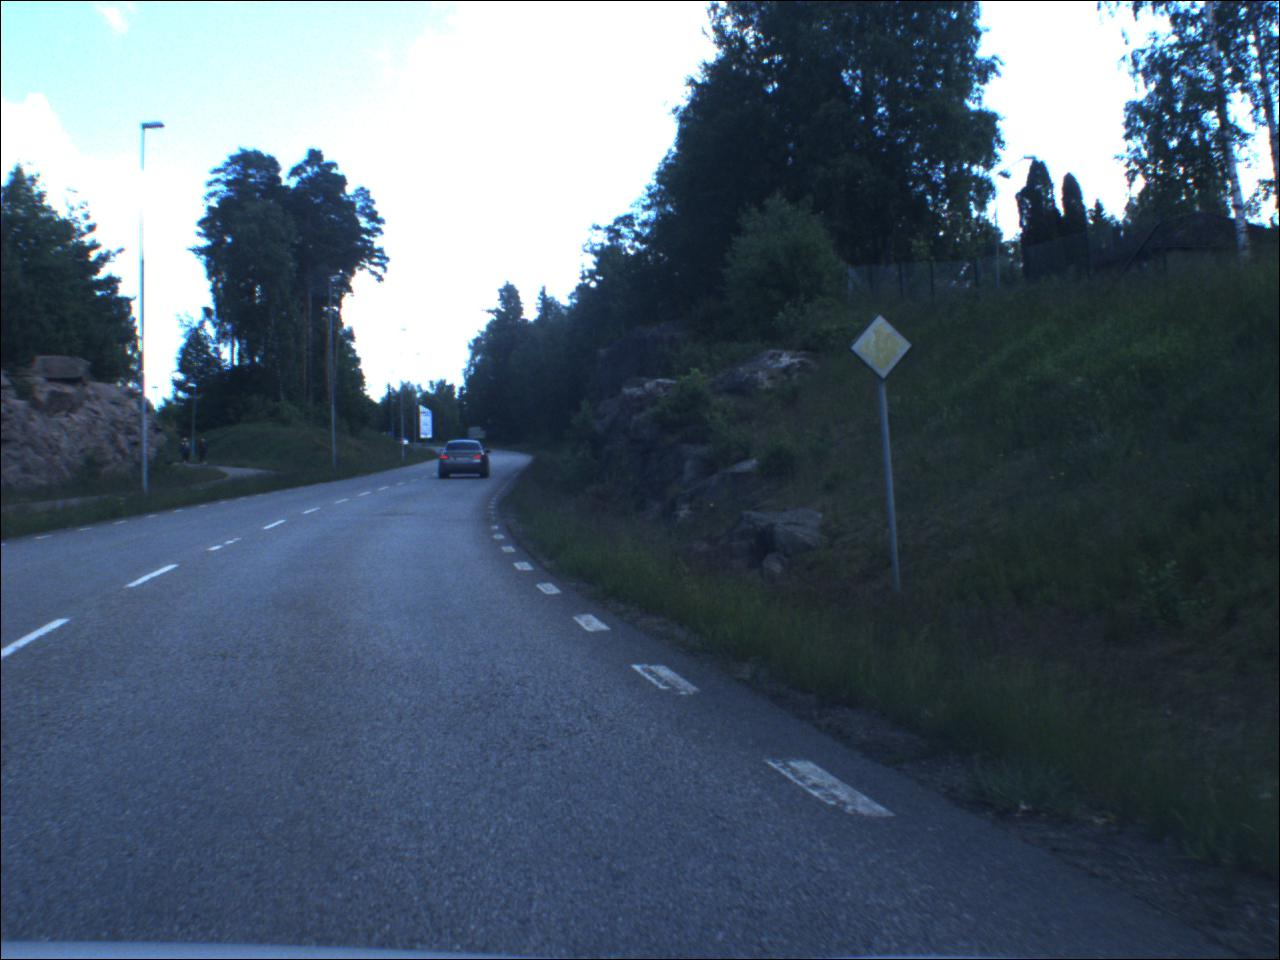PRIORITY_ROAD: (852, 314, 915, 382)
